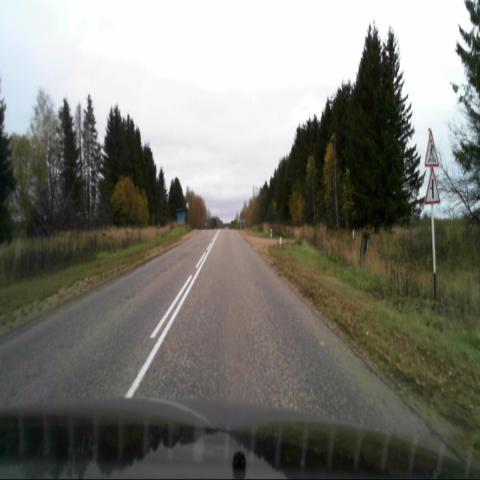2_3_3: (426, 168, 441, 204)
